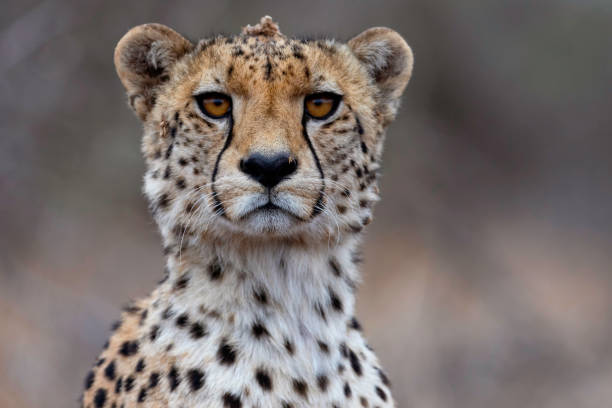cheetah: (76, 4, 432, 299)
